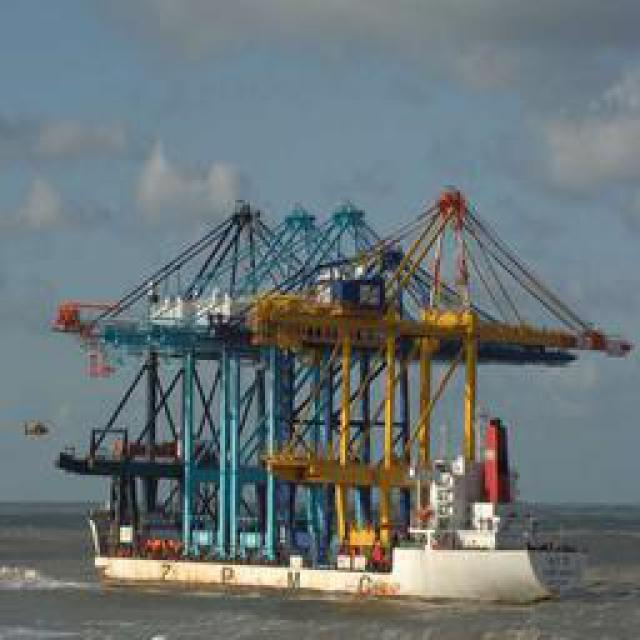Ship: (60, 201, 638, 589)
